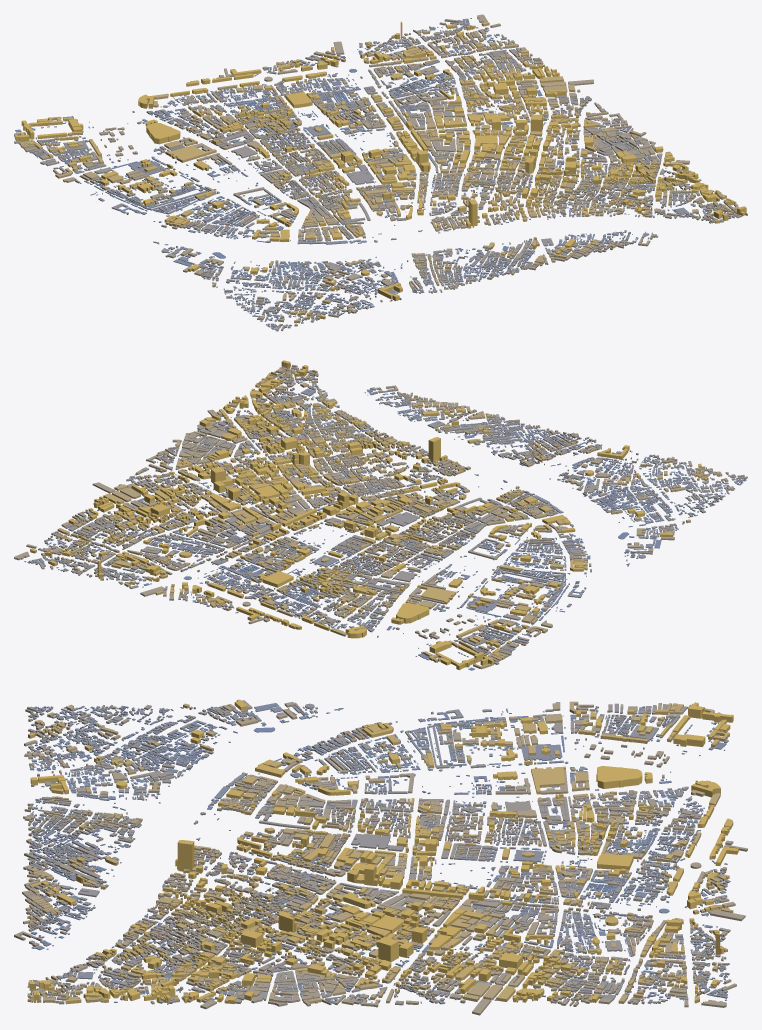
Rendered from buildings.glb.
3 renders of one model, top to bottom at view 1: azimuth 30°, elevation 25°; view 2: azimuth 150°, elevation 25°; view 3: azimuth 270°, elevation 25°, orthographic. The views are drawn at different scales.
Parts seen in each view (by area): view 1: buildings; view 2: buildings; view 3: buildings.
Boxes of the visible parts, left/top/right/bottom form: buildings: left=14, top=14, right=747, bottom=331; buildings: left=14, top=360, right=747, bottom=670; buildings: left=14, top=699, right=747, bottom=1015.
Size of the model in its own units: 2771 by 120 by 2731.
